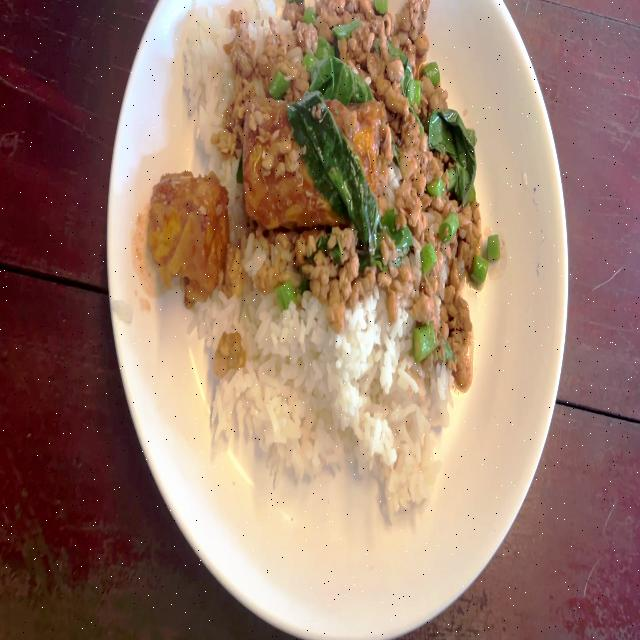fried_tofo: (240, 97, 392, 217), (152, 171, 220, 300)
minced_pork: (392, 89, 484, 384), (231, 0, 440, 96), (233, 216, 396, 310)
rice: (219, 319, 436, 486)
stir_fried_basil: (150, 0, 515, 533)
